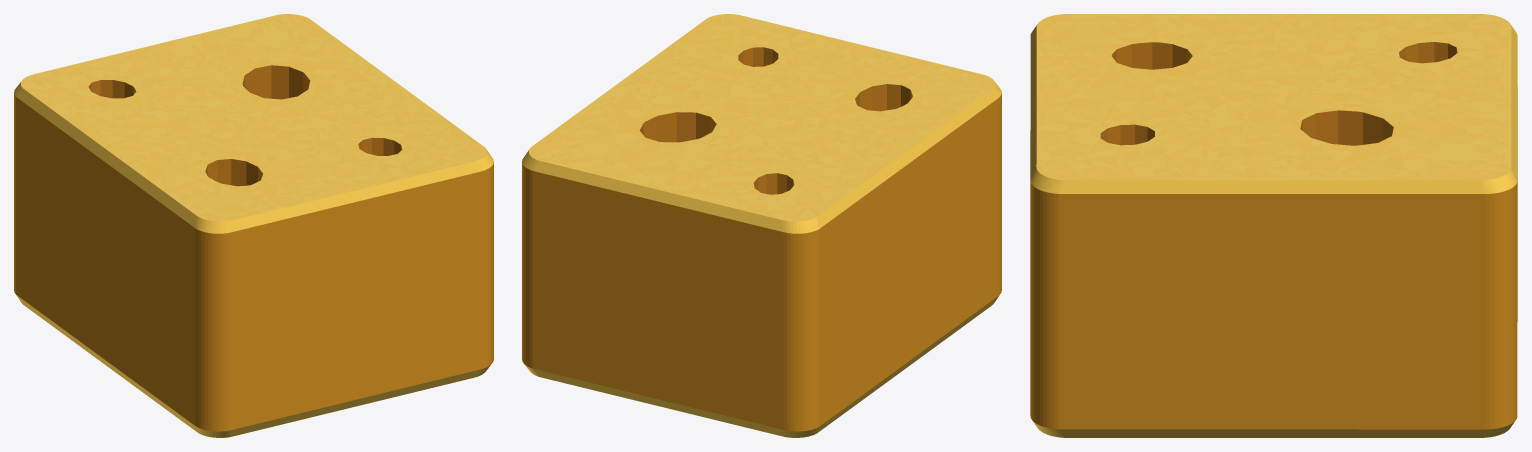
File: cheese_slice.dae
3 renders of one model, left to right at view 1: azimuth 30°, elevation 25°; view 2: azimuth 150°, elevation 25°; view 3: azimuth 270°, elevation 25°, orthographic. The views are drawn at different scales.
Visible parts, largest first — view 1: cheese_side-node, cheese_face4-node, cheese_face5-node, cheese_face1-node, cheese_face3-node, cheese_face0-node, cheese_face2-node, cheese_edge-node, pore_wall-node; view 2: cheese_side-node, cheese_face4-node, cheese_face5-node, cheese_face3-node, cheese_face1-node, cheese_face0-node, cheese_face2-node, cheese_edge-node, pore_wall-node; view 3: cheese_side-node, cheese_face4-node, cheese_face5-node, cheese_face3-node, cheese_face1-node, cheese_face0-node, cheese_face2-node, cheese_edge-node, pore_wall-node.
Boxes of the visible parts, box(x1,y1,x2,y2) form: cheese_side-node: box(14, 72, 493, 431); cheese_face4-node: box(21, 14, 486, 221); cheese_face5-node: box(23, 14, 484, 221); cheese_face1-node: box(21, 14, 485, 221); cheese_face3-node: box(23, 14, 486, 221); cheese_face0-node: box(23, 14, 484, 220); cheese_face2-node: box(21, 15, 486, 221); cheese_edge-node: box(14, 82, 493, 437); pore_wall-node: box(88, 65, 402, 186); cheese_side-node: box(522, 85, 1001, 431); cheese_face4-node: box(530, 14, 989, 221); cheese_face5-node: box(536, 16, 990, 221); cheese_face3-node: box(529, 14, 994, 221); cheese_face1-node: box(529, 14, 994, 221); cheese_face0-node: box(530, 14, 994, 221); cheese_face2-node: box(529, 14, 992, 220); cheese_edge-node: box(522, 82, 1001, 437); pore_wall-node: box(639, 47, 912, 194); cheese_side-node: box(1030, 42, 1517, 429); cheese_face4-node: box(1036, 14, 1511, 180); cheese_face5-node: box(1037, 14, 1511, 180); cheese_face3-node: box(1036, 14, 1510, 180); cheese_face1-node: box(1036, 14, 1511, 180); cheese_face0-node: box(1036, 14, 1511, 180); cheese_face2-node: box(1037, 14, 1508, 180); cheese_edge-node: box(1030, 25, 1517, 437); pore_wall-node: box(1100, 42, 1457, 145).
Size of the model in its own units: 0.05 by 0.06 by 0.035.
